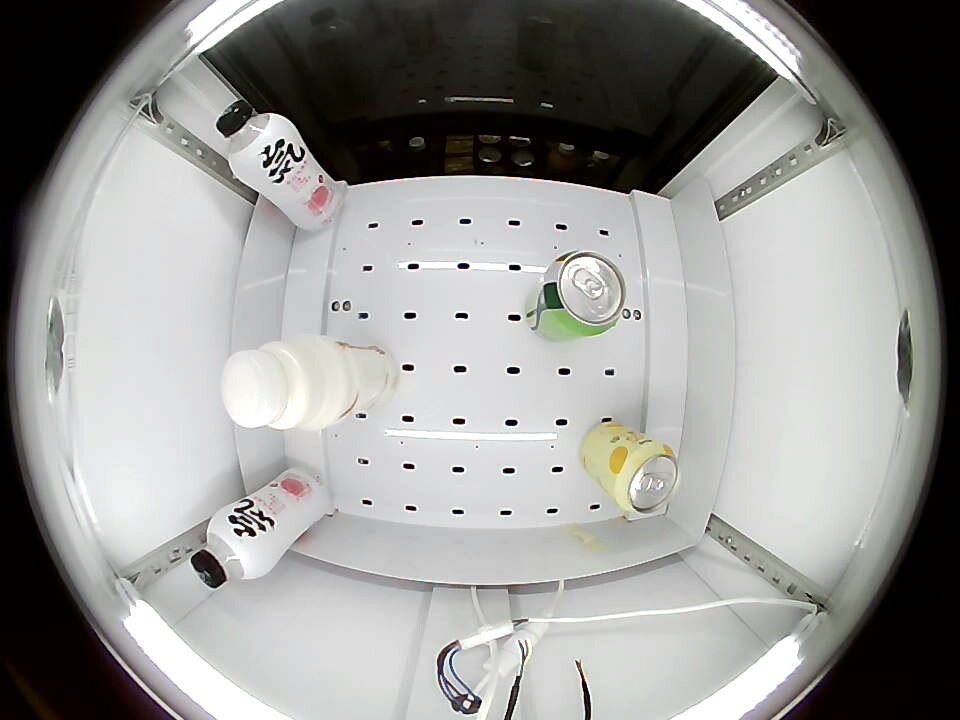mangguoxiaolao: (614, 441, 680, 518)
quchenshixiangcao: (541, 250, 627, 337)
yingyangkuaixian: (221, 335, 350, 432)
yuanqishui: (190, 509, 273, 589), (215, 100, 296, 180)
